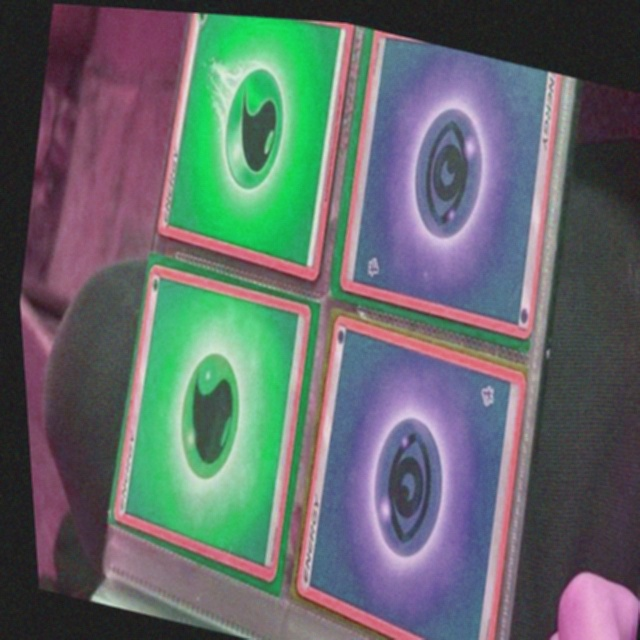card: (287, 309, 519, 640), (335, 24, 560, 334), (103, 260, 306, 583), (153, 10, 353, 278)
